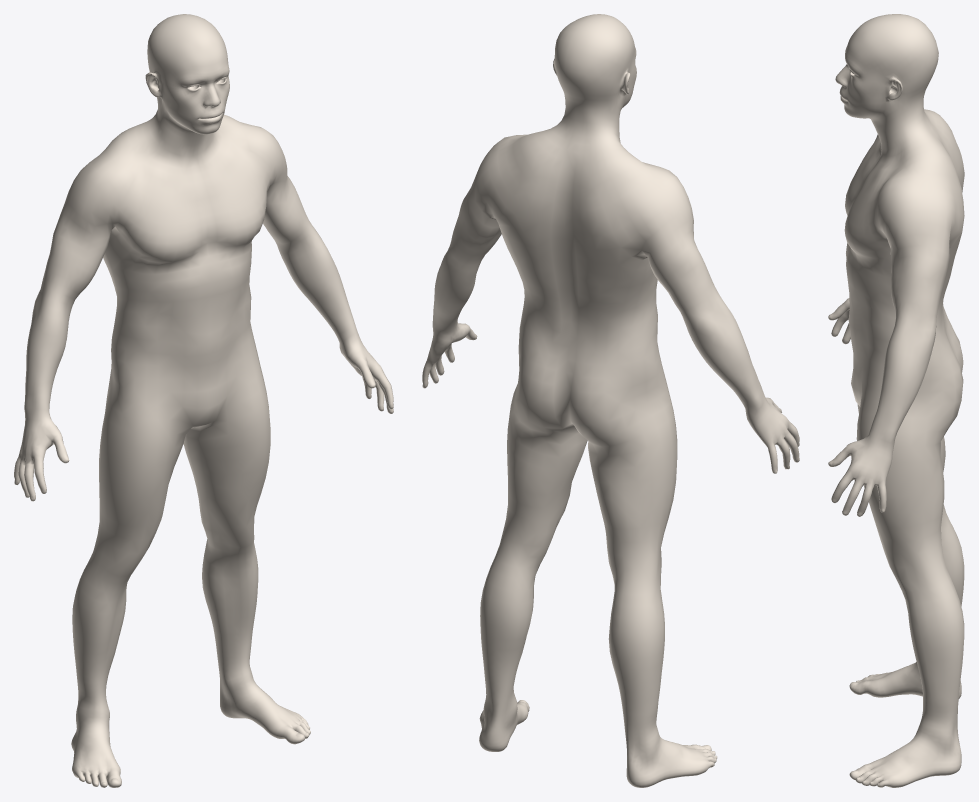
File: body.glb
The picture shows the model from 3 angles, left to right: view 1: azimuth 30°, elevation 25°; view 2: azimuth 150°, elevation 25°; view 3: azimuth 270°, elevation 25°; orthographic projection.
Visible parts, largest first — view 1: GEO-body_male_realistic; view 2: GEO-body_male_realistic; view 3: GEO-body_male_realistic.
Boxes of the visible parts, bbox=[...] form: GEO-body_male_realistic: bbox=[14, 14, 393, 787]; GEO-body_male_realistic: bbox=[422, 14, 799, 787]; GEO-body_male_realistic: bbox=[828, 14, 964, 787].
Size of the model in its own units: 0.8807 by 1.69 by 0.2904.
